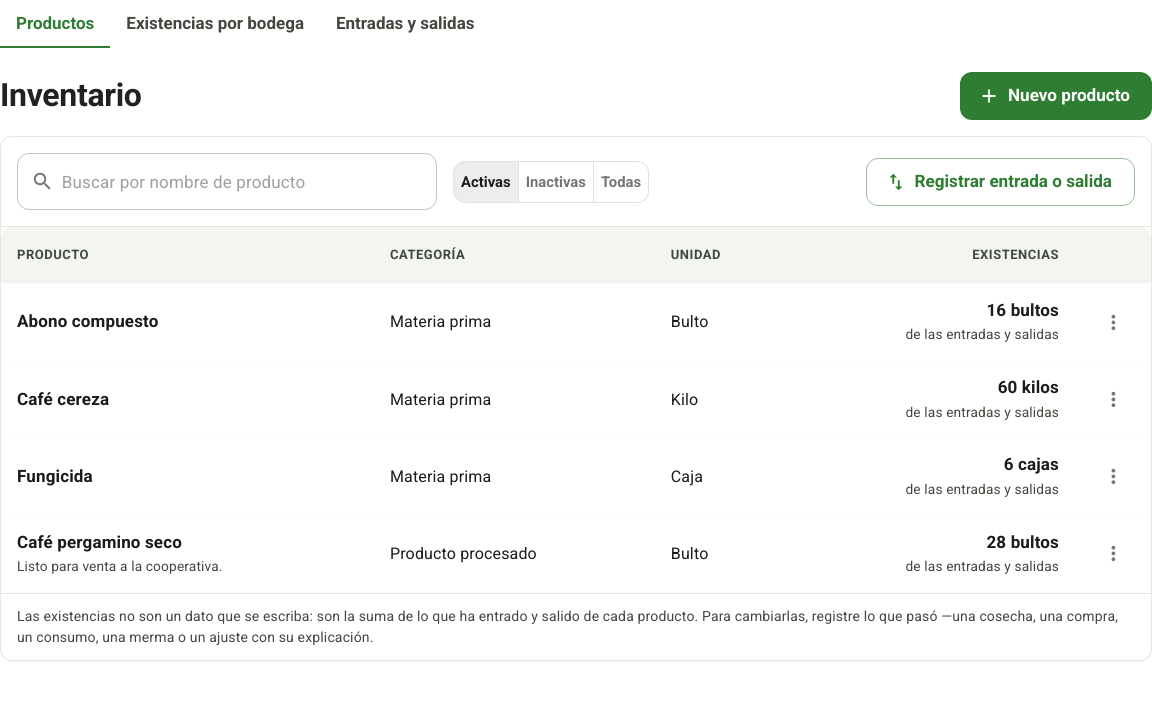
it: stock on hand is derived, and the interface never offers to set it › offers no way to type a quantity into the product form
Expected: the text "Café pergamino seco" is shown, [17,532,182,552]
Click the button "Nuevo producto": [1056, 96] box [960,72,1151,120]
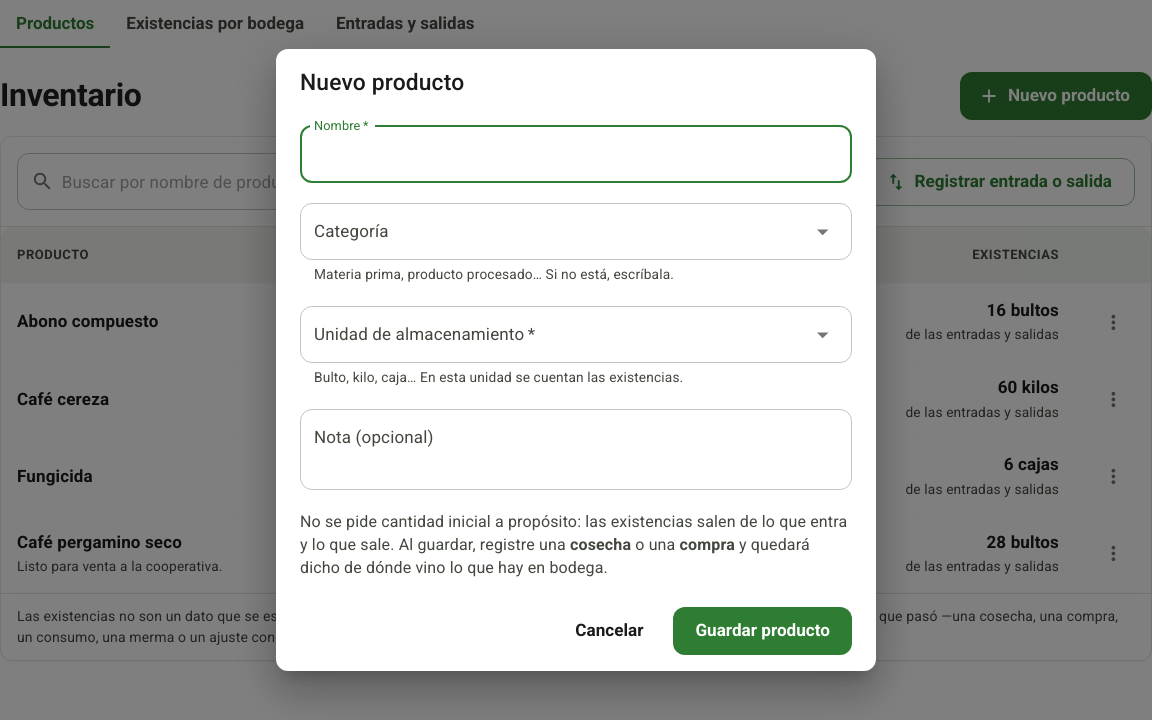
Result: the field labelled "Nombre *" is shown at [300,125,852,182]
Result: the dropdown labelled "Unidad de almacenamiento *" is shown at [309,315,813,354]
Result: the text "No se pide cantidad inicial a propósito" is shown at [300,512,847,554]
